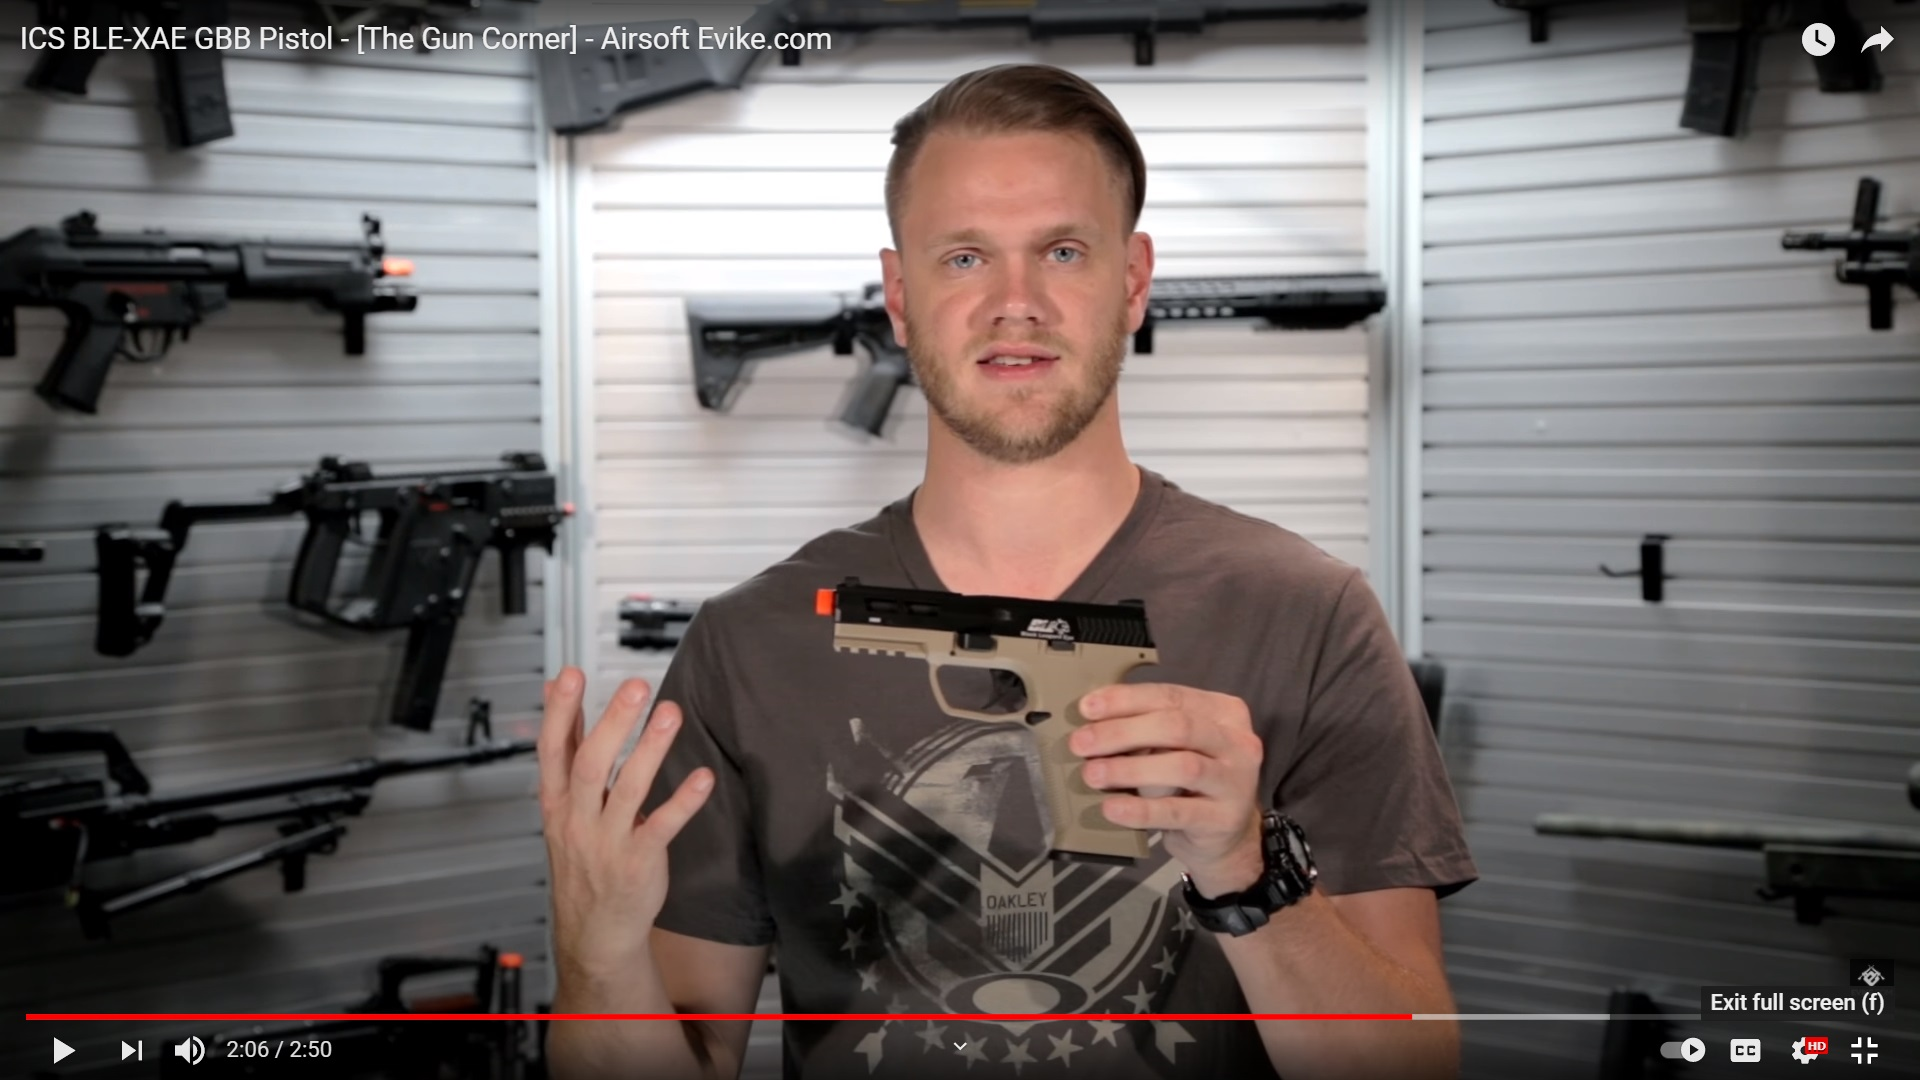asg_ics_ble_xae: (825, 574, 1162, 869)
